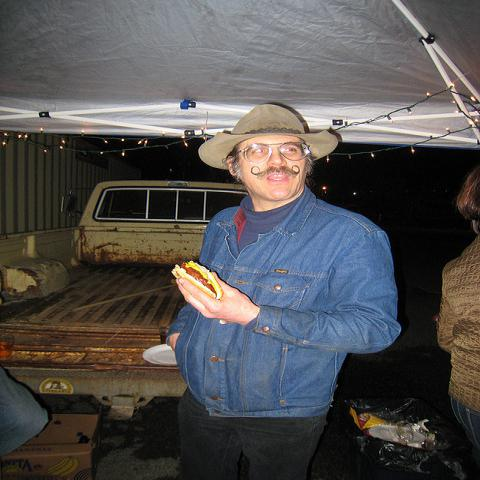truck: (5, 182, 244, 421)
